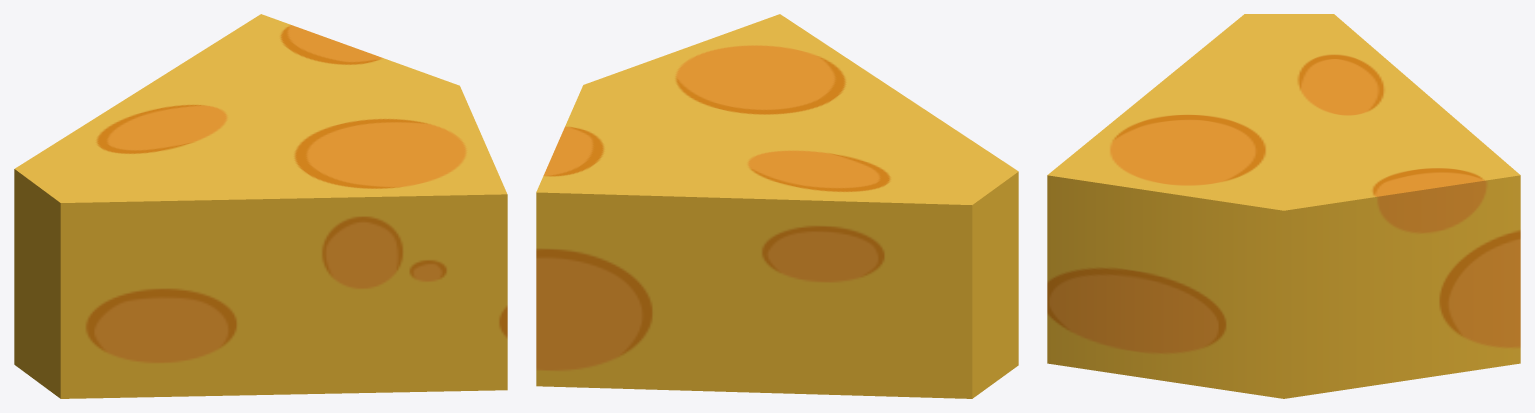
File: Cheese_1.FBX
3 renders of one model, left to right at view 1: azimuth 30°, elevation 25°; view 2: azimuth 150°, elevation 25°; view 3: azimuth 270°, elevation 25°, orthographic. The views are drawn at different scales.
Parts seen in each view (by area): view 1: Cheese_1; view 2: Cheese_1; view 3: Cheese_1.
Part boxes in pixels (box(x1,y1,x2,y2)): Cheese_1: box(14, 14, 507, 398); Cheese_1: box(536, 14, 1018, 398); Cheese_1: box(1047, 14, 1520, 398).
Size of the model in its own units: 1.35 by 0.6 by 1.37.
